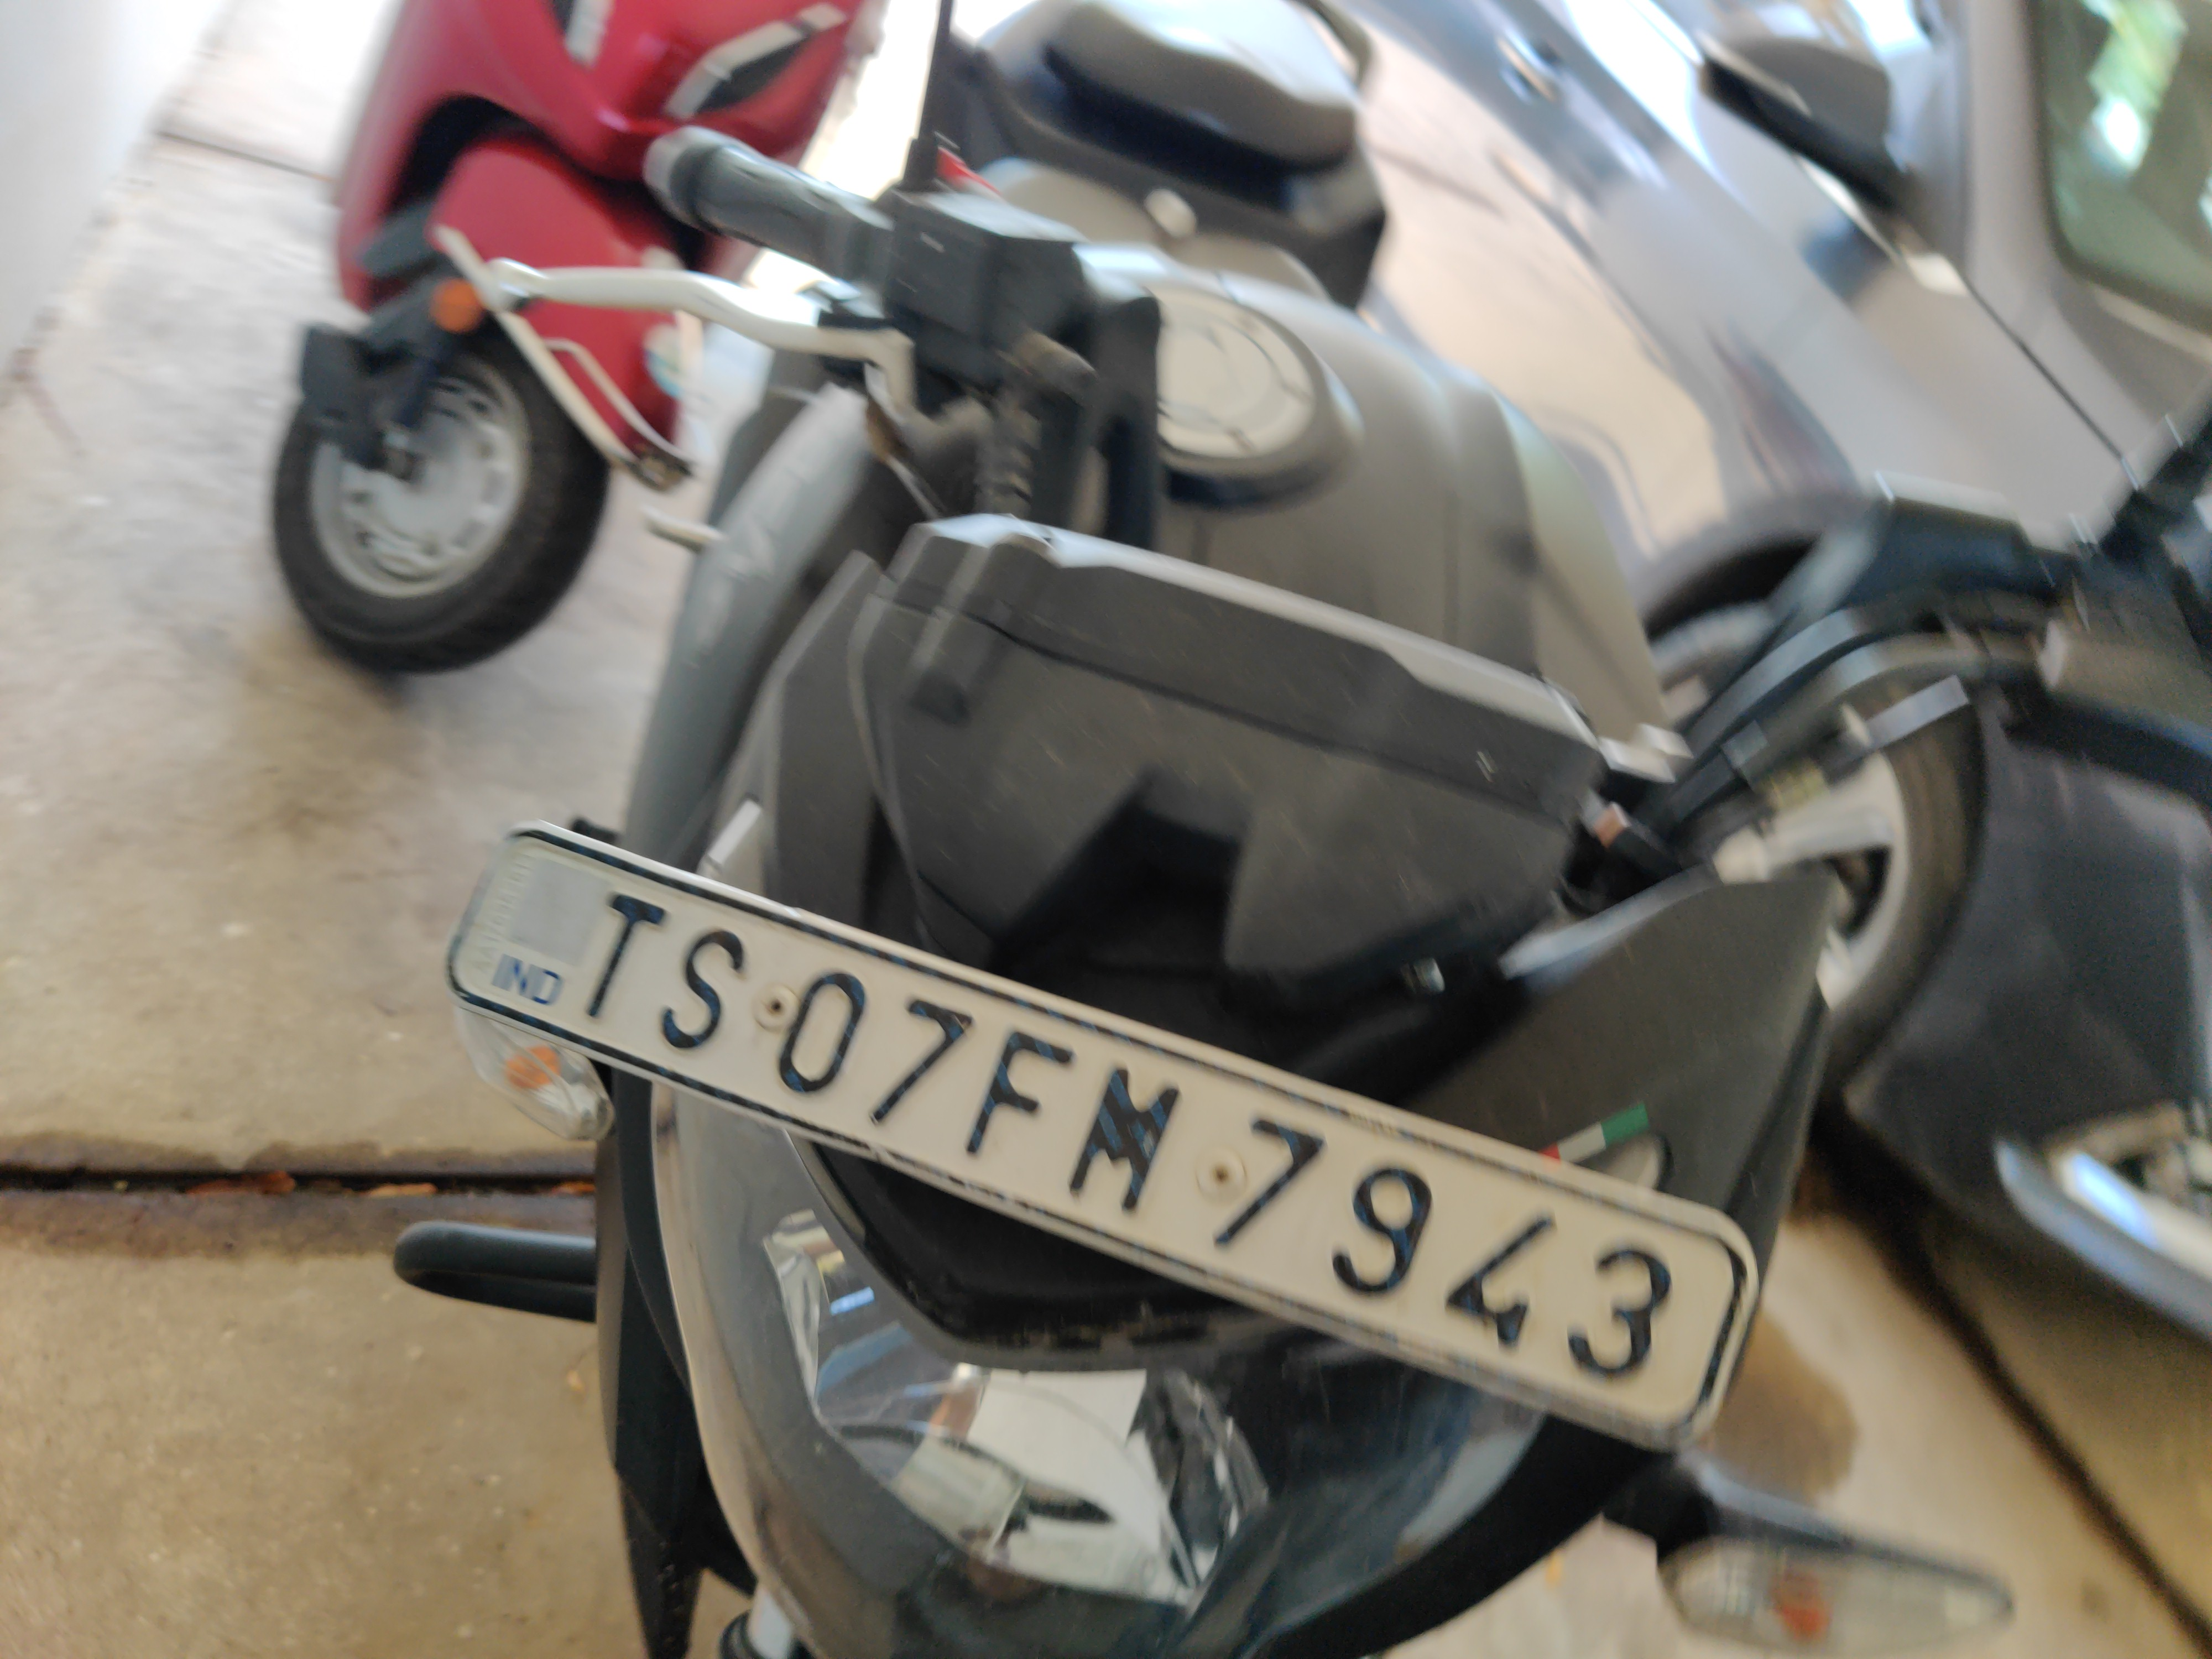plate: (415, 795, 1825, 1486)
